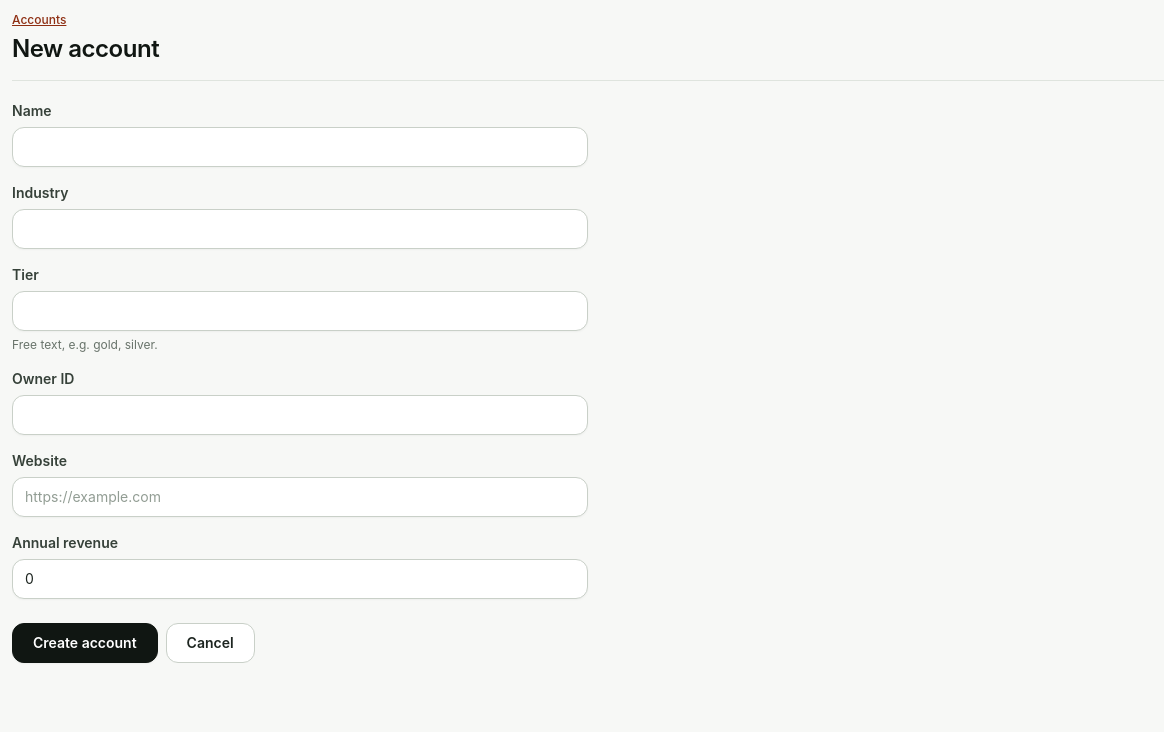
Test: AccountFormPage — create › blocks submission and shows a field error when a required field is empty
Click the button "Create account".
click(85, 643)  # box [12,623,158,663]
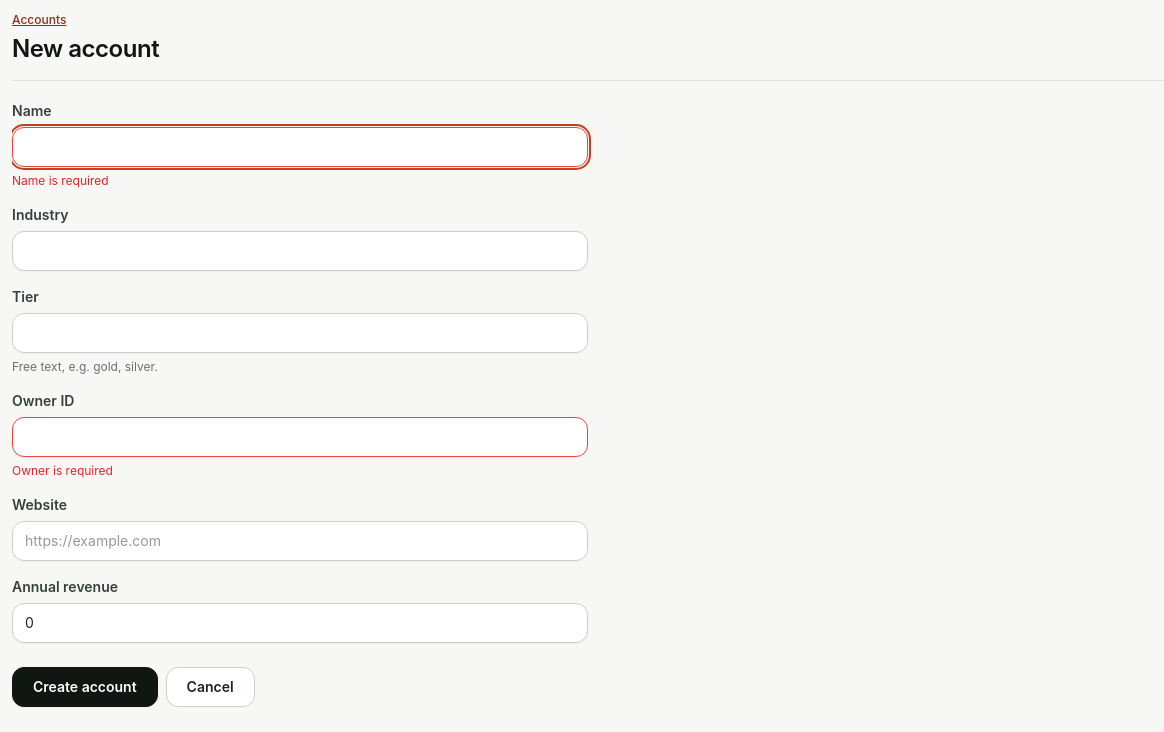
Expected: the text "Name is required" is shown, [12,173,109,188]
